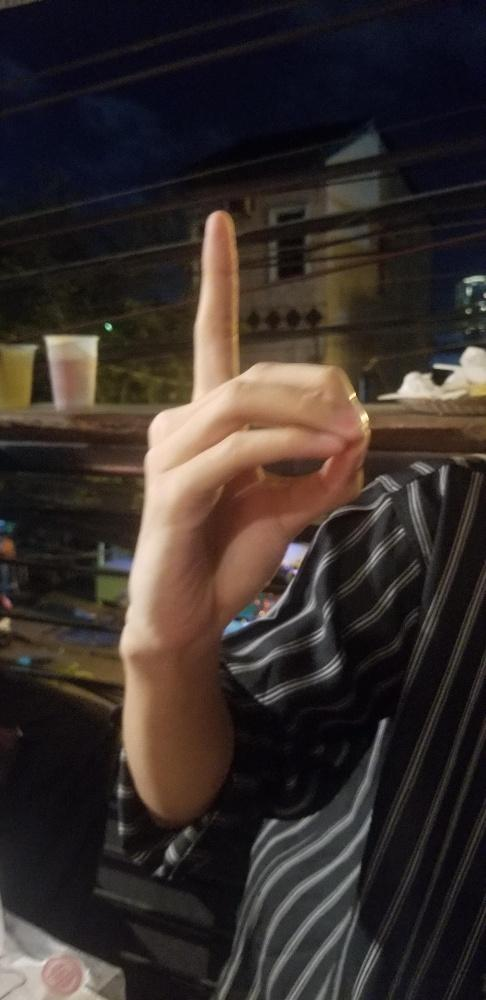d: (124, 207, 373, 646)
